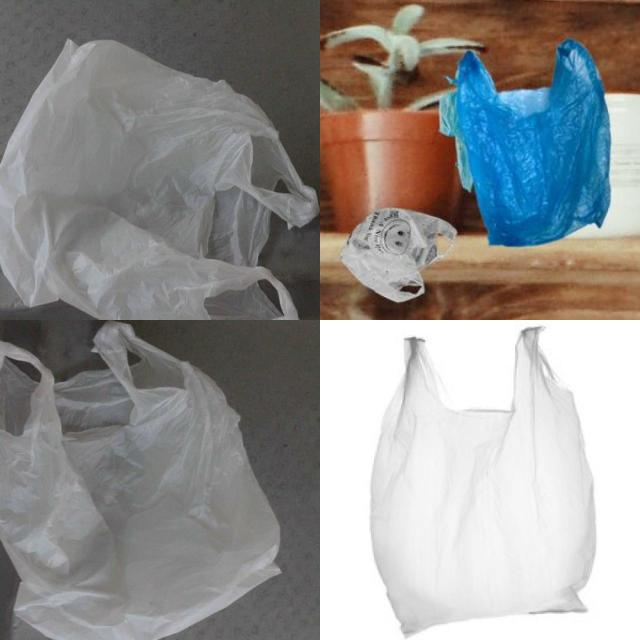Single-layer Plastic: (0, 40, 319, 320), (0, 322, 280, 640), (371, 328, 596, 634), (440, 39, 611, 246), (341, 209, 456, 302)
